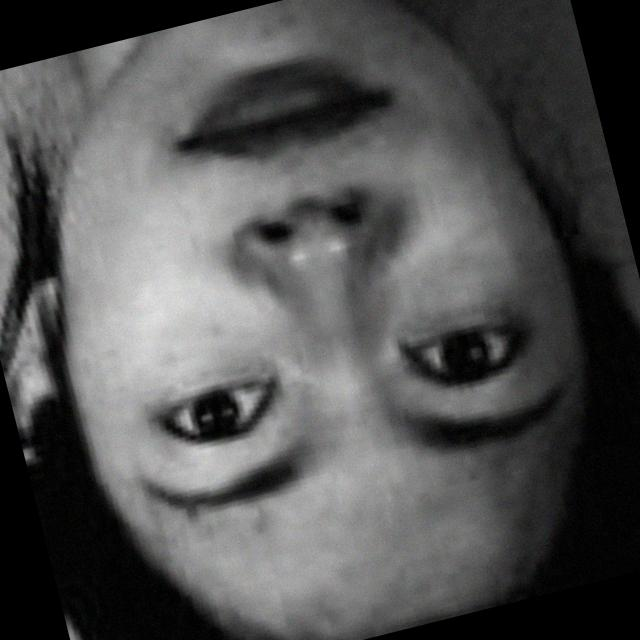fear: (27, 0, 630, 623)
